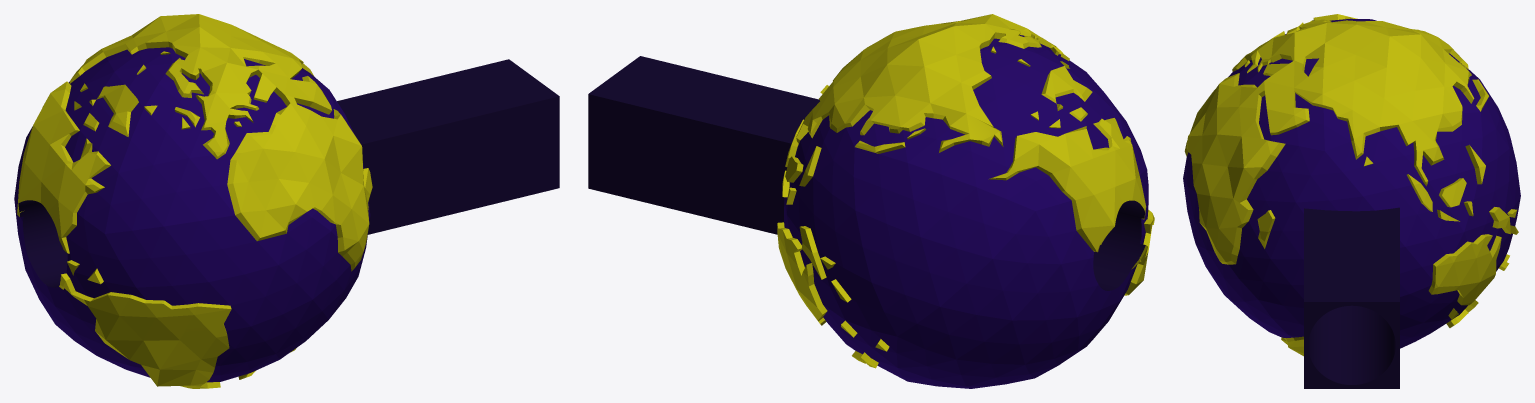
Rendered from earthWork.glb.
3 renders of one model, left to right at view 1: azimuth 30°, elevation 25°; view 2: azimuth 150°, elevation 25°; view 3: azimuth 270°, elevation 25°, orthographic. The views are drawn at different scales.
Parts seen in each view (by area): view 1: earth4, Cube; view 2: earth4, Cube; view 3: earth4, Cube.
Part boxes in pixels (bbox=[...]): earth4: bbox=[14, 14, 372, 388]; Cube: bbox=[337, 59, 559, 234]; earth4: bbox=[777, 14, 1154, 388]; Cube: bbox=[588, 56, 819, 234]; earth4: bbox=[1183, 14, 1520, 356]; Cube: bbox=[1304, 207, 1399, 388].
Size of the model in its own units: 138 by 90.26 by 85.11.
